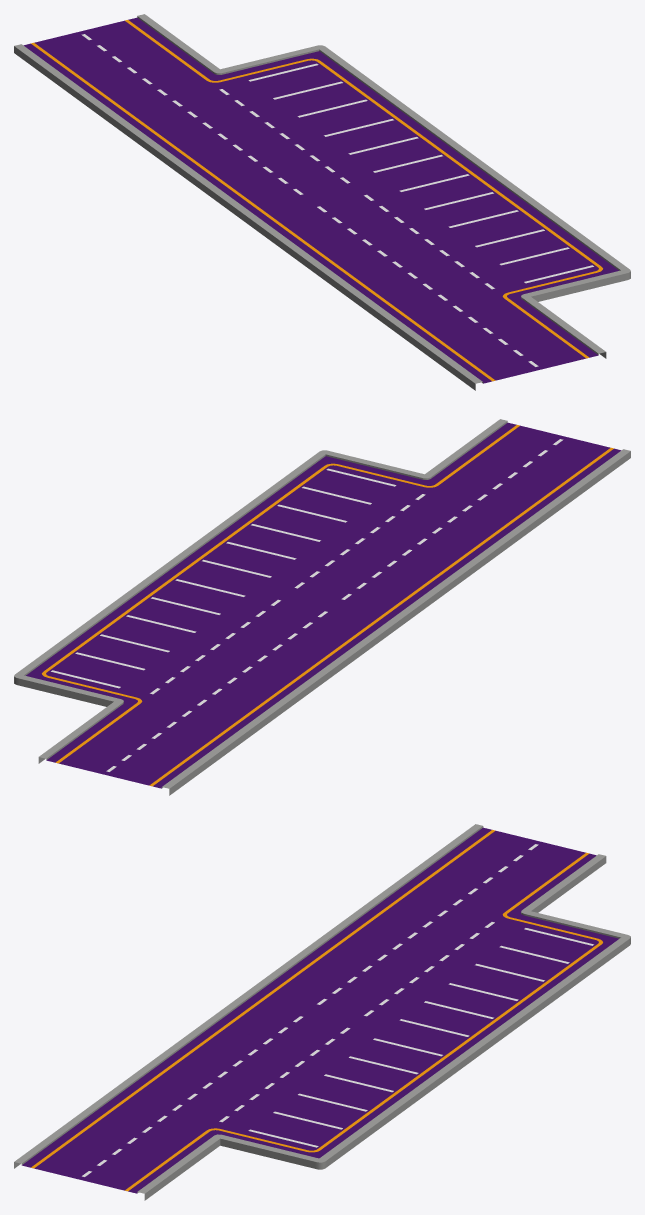
File: ParkingRoad_C_7.fbx
3 views of the same model, one above another, from view 1: azimuth 30°, elevation 25°; view 2: azimuth 150°, elevation 25°; view 3: azimuth 330°, elevation 25° (orthographic).
Visible parts, largest first — view 1: ParkingRoad_C_7; view 2: ParkingRoad_C_7; view 3: ParkingRoad_C_7.
Part boxes in pixels (x1,y1,x2,y2): ParkingRoad_C_7: [14, 14, 630, 390]; ParkingRoad_C_7: [14, 419, 630, 795]; ParkingRoad_C_7: [14, 824, 630, 1200].
Bounding box in the file's own units: 1426 × 41.49 × 4893.
